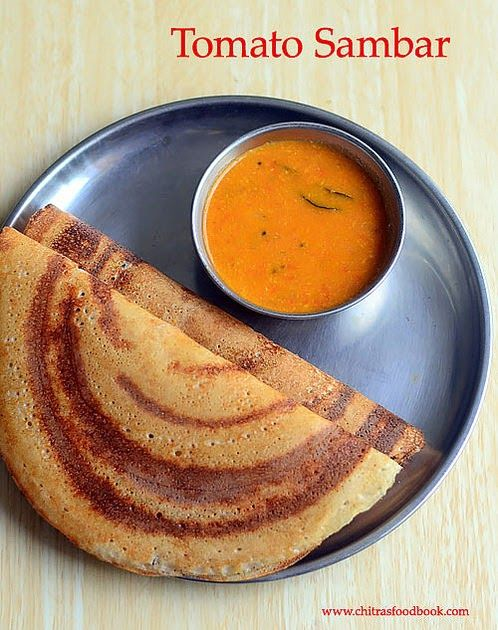dosa: (3, 203, 427, 579)
